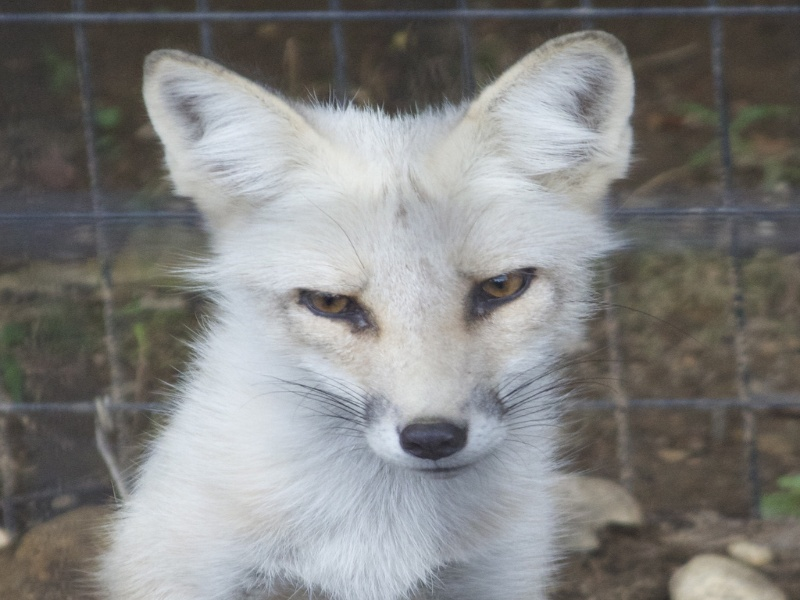fox: (81, 22, 639, 595)
